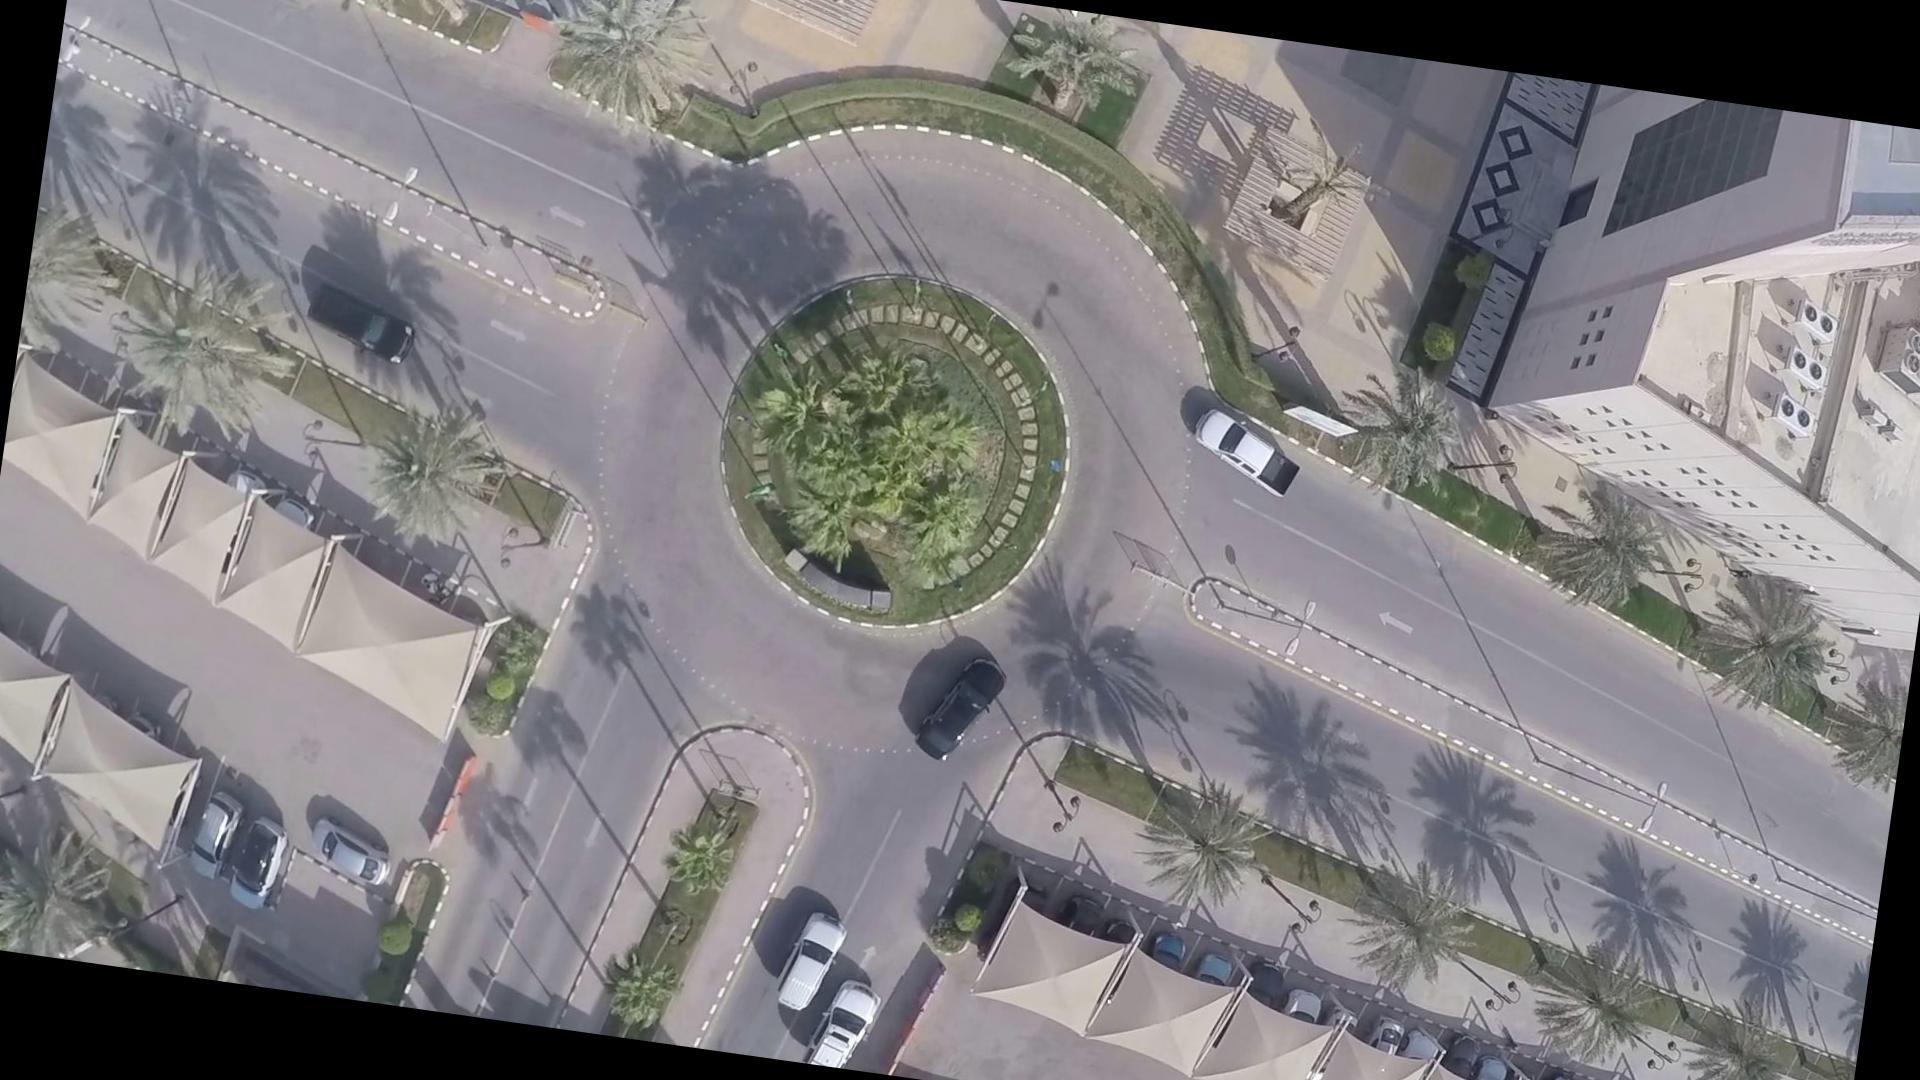vehicle: (897, 635, 1020, 774), (297, 264, 417, 374), (770, 900, 846, 1022), (1192, 411, 1309, 486)
